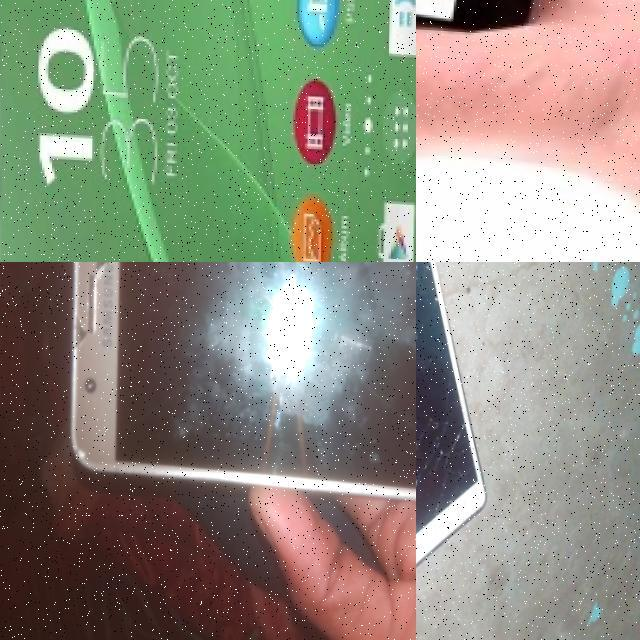screen crack: (416, 398, 480, 547), (65, 262, 139, 390)
